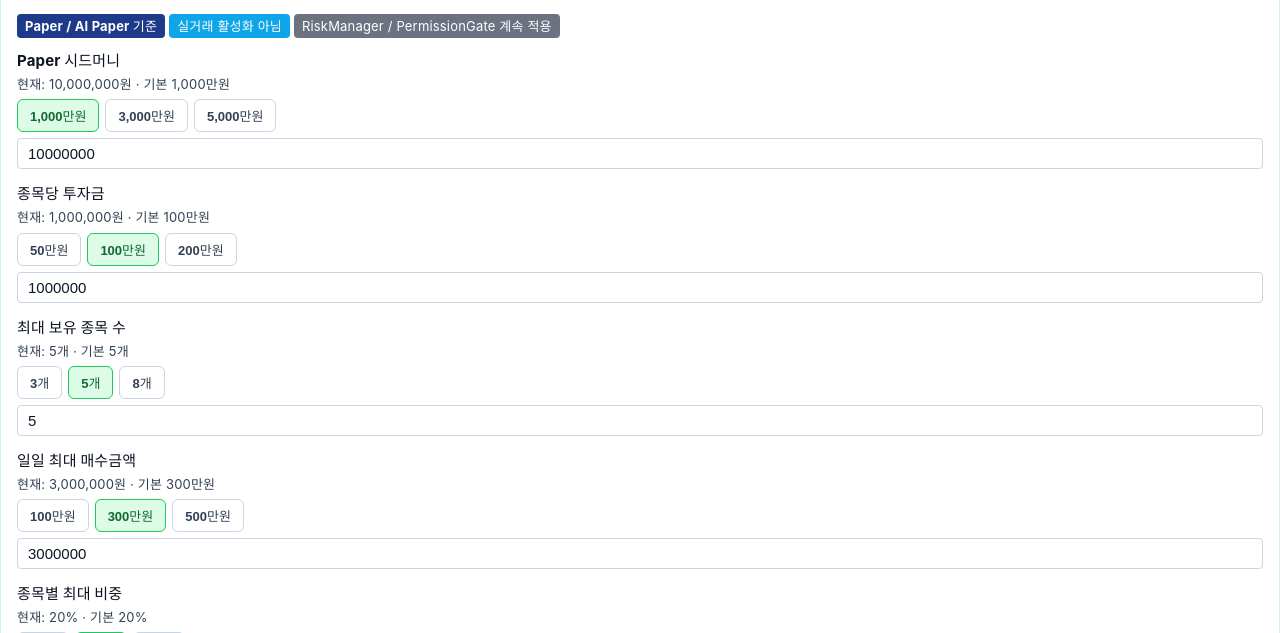
Test case: <PaperCapitalSettingsCard> › 잘못된 값 입력 시 오류 메시지
The image size is (1280, 633).
Replace the text in the number field with test id "input-total-paper-capital" with "50": (640, 154) [17, 138, 1263, 169]
(page scrolled)
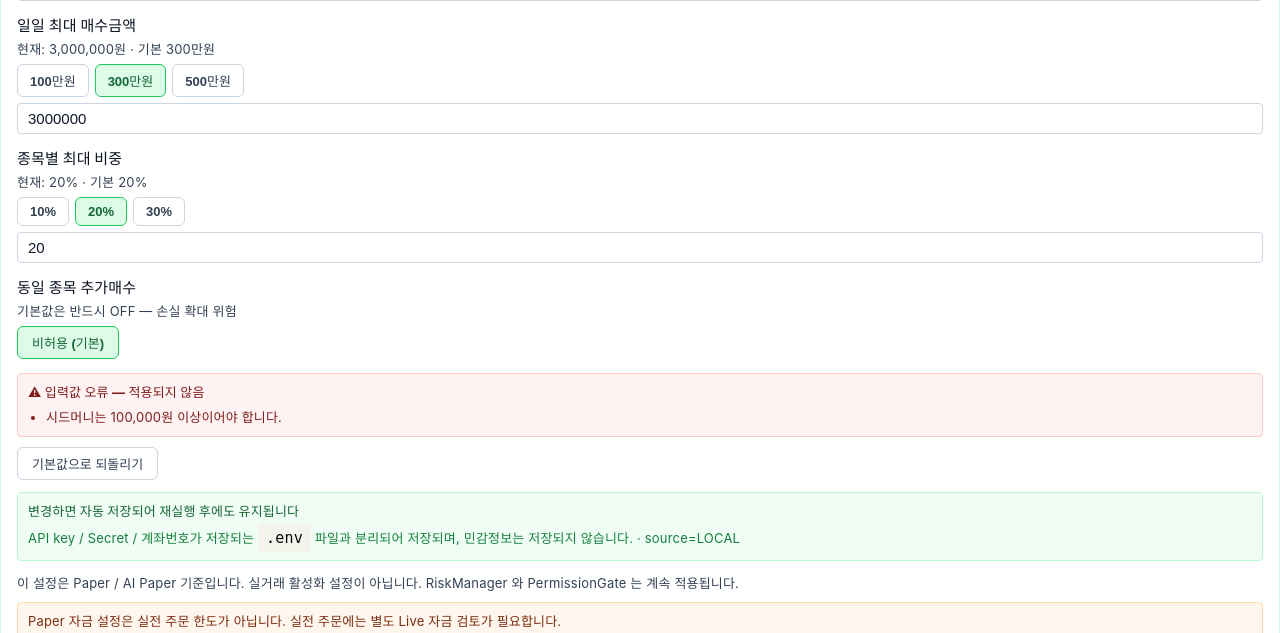
Expected: the element with test id "paper-capital-settings-errors" shows "적용되지 않음", [28, 384, 204, 400]
